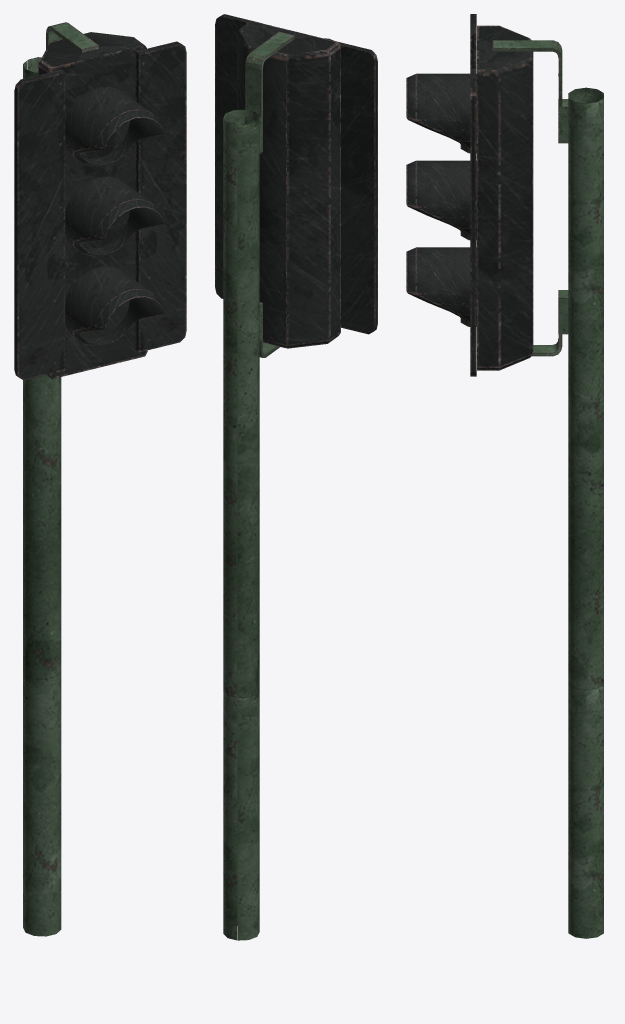
File: 303_bridge_signal.fbx
3 views of the same model, side by side, from view 1: azimuth 30°, elevation 25°; view 2: azimuth 150°, elevation 25°; view 3: azimuth 270°, elevation 25° (orthographic). The views are drawn at different scales.
Parts seen in each view (by area): view 1: LODGroup_1_MainMesh_1_SubMesh_1; view 2: LODGroup_1_MainMesh_1_SubMesh_1; view 3: LODGroup_1_MainMesh_1_SubMesh_1.
Boxes of the visible parts, x1,y1,x2,y2 form: LODGroup_1_MainMesh_1_SubMesh_1: (14, 22, 186, 936); LODGroup_1_MainMesh_1_SubMesh_1: (215, 14, 377, 940); LODGroup_1_MainMesh_1_SubMesh_1: (406, 14, 603, 938).
Size of the model in its own units: 60.56 by 338 by 65.59.
